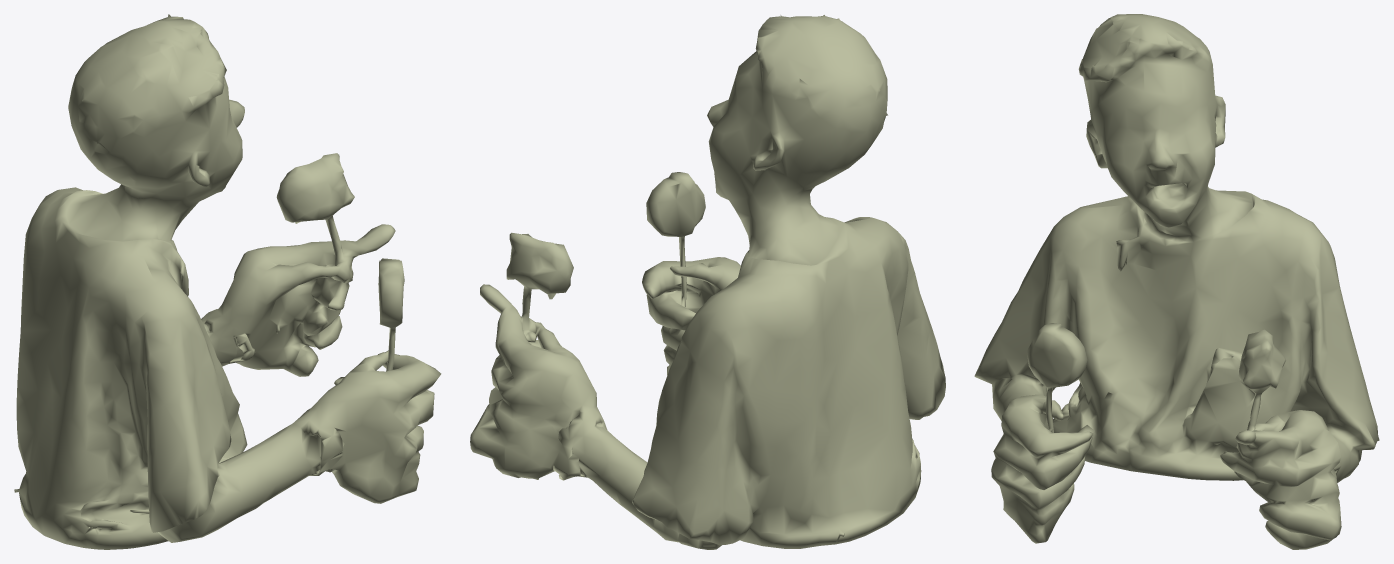
File: statue_of_myself_lod1.obj
3 renders of one model, left to right at view 1: azimuth 30°, elevation 25°; view 2: azimuth 150°, elevation 25°; view 3: azimuth 270°, elevation 25°, orthographic. The views are drawn at different scales.
Visible parts, largest first — view 1: obj_0; view 2: obj_0; view 3: obj_0.
Boxes of the visible parts, x1,y1,x2,y2 form: obj_0: [14, 14, 441, 549]; obj_0: [470, 15, 945, 549]; obj_0: [974, 14, 1379, 549].
Size of the model in its own units: 14.72 by 17.38 by 14.01.
